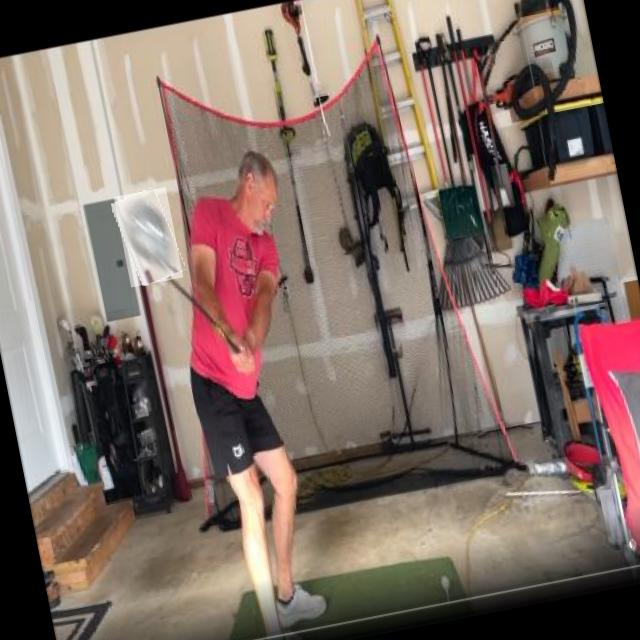club head: (114, 187, 184, 287)
